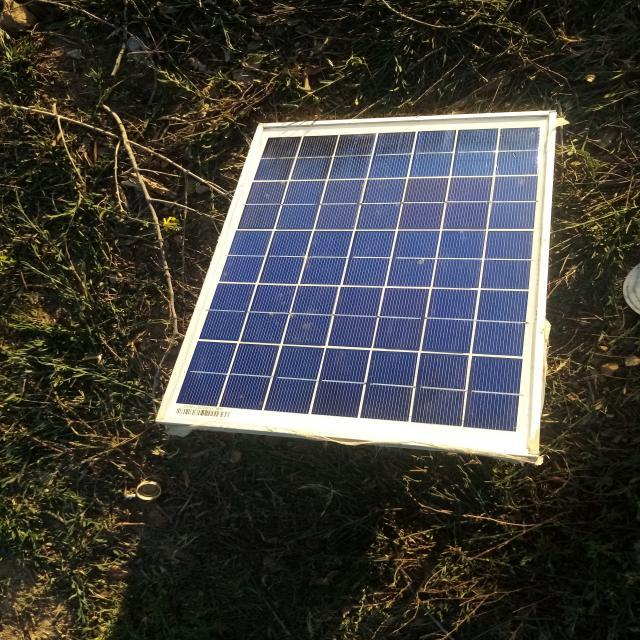no faulty: (156, 117, 556, 452)
